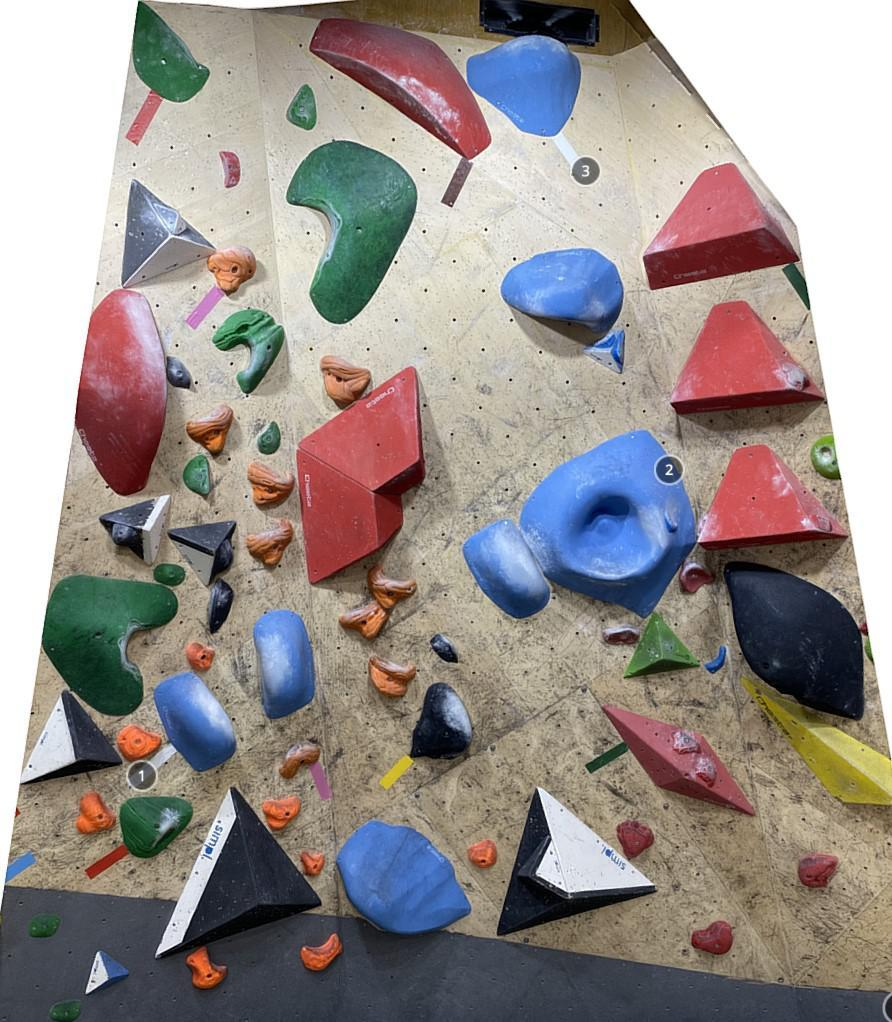hold: (520, 430, 696, 619), (154, 786, 322, 960), (309, 18, 492, 160), (496, 785, 656, 936), (286, 140, 417, 324), (724, 562, 864, 720), (642, 163, 800, 290), (742, 675, 892, 806), (41, 574, 178, 716), (75, 289, 168, 495), (670, 300, 825, 414), (601, 704, 755, 816), (298, 365, 426, 495), (697, 444, 848, 550), (335, 820, 472, 935), (296, 448, 403, 585), (466, 34, 581, 137), (500, 248, 624, 333), (121, 179, 217, 287), (20, 690, 123, 785), (463, 519, 550, 618), (153, 671, 236, 771), (132, 0, 209, 102), (253, 609, 315, 718), (212, 309, 285, 393), (480, 0, 600, 47), (623, 611, 700, 679), (99, 495, 171, 565), (409, 682, 472, 760), (167, 520, 237, 587), (120, 796, 193, 858), (517, 834, 568, 900), (320, 355, 371, 409), (245, 517, 294, 567), (207, 245, 256, 294), (186, 404, 233, 455), (367, 564, 417, 610), (84, 949, 131, 996), (368, 654, 415, 699), (247, 460, 294, 505), (338, 599, 388, 641), (583, 328, 624, 374), (185, 946, 227, 990), (300, 932, 344, 972), (76, 790, 116, 834), (116, 724, 161, 762), (278, 743, 320, 779), (690, 920, 733, 955), (616, 819, 654, 858), (797, 854, 839, 888), (810, 434, 841, 480), (286, 84, 317, 130), (208, 578, 233, 634), (262, 796, 300, 830), (679, 561, 716, 594), (182, 454, 211, 495), (152, 202, 187, 235), (467, 839, 498, 869), (186, 641, 215, 671), (430, 633, 459, 663), (781, 361, 810, 391), (27, 912, 60, 938), (48, 999, 82, 1022), (219, 151, 240, 188), (692, 757, 717, 788), (167, 356, 191, 388), (153, 563, 186, 586), (257, 421, 280, 454), (672, 730, 701, 755), (602, 625, 640, 644), (213, 539, 233, 574), (704, 645, 727, 674), (112, 523, 139, 546), (300, 852, 324, 877), (809, 513, 833, 531), (664, 506, 678, 533), (695, 514, 708, 537), (864, 636, 874, 665), (858, 622, 868, 636)
